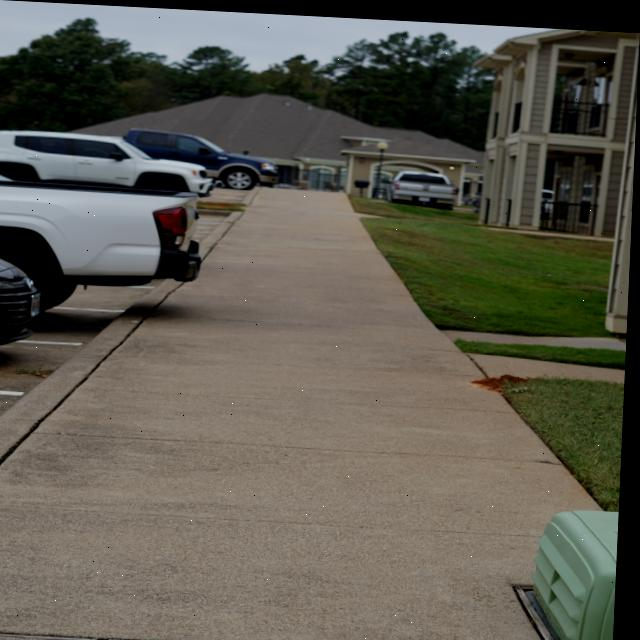Automobile: (0, 179, 203, 310), (0, 130, 214, 194), (125, 127, 280, 187), (0, 253, 44, 346), (390, 164, 459, 203)
Obstacle: (522, 504, 623, 640)
Road: (0, 281, 159, 420), (202, 185, 254, 202), (196, 213, 228, 240)
Sidewalk: (0, 186, 604, 640), (471, 349, 628, 376), (444, 325, 629, 344)
